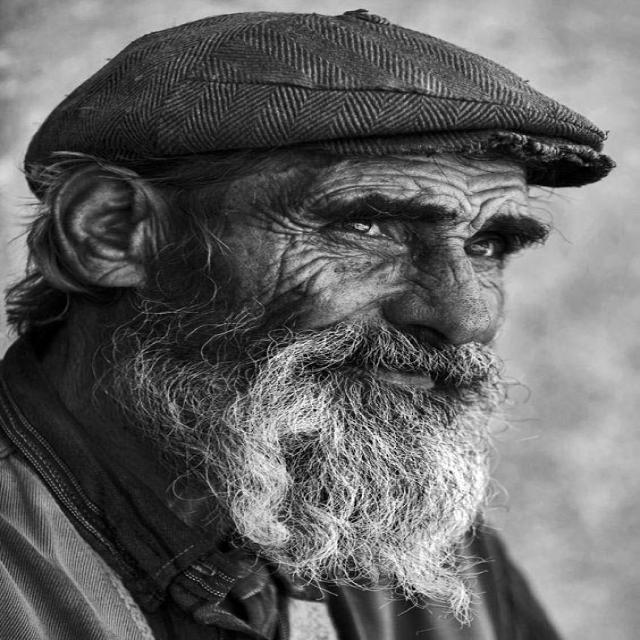front: (167, 170, 554, 451)
